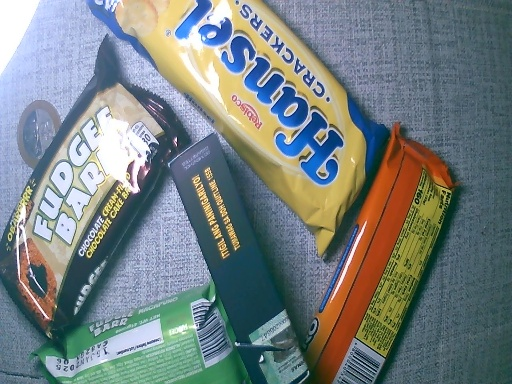cardboard: (179, 139, 308, 383)
metal: (11, 98, 64, 174)
plastic: (111, 1, 402, 261), (1, 38, 180, 329), (306, 115, 470, 384), (27, 288, 252, 384)
